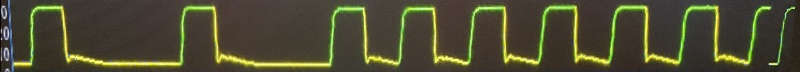normal_pressure: (12, 0, 794, 72)
